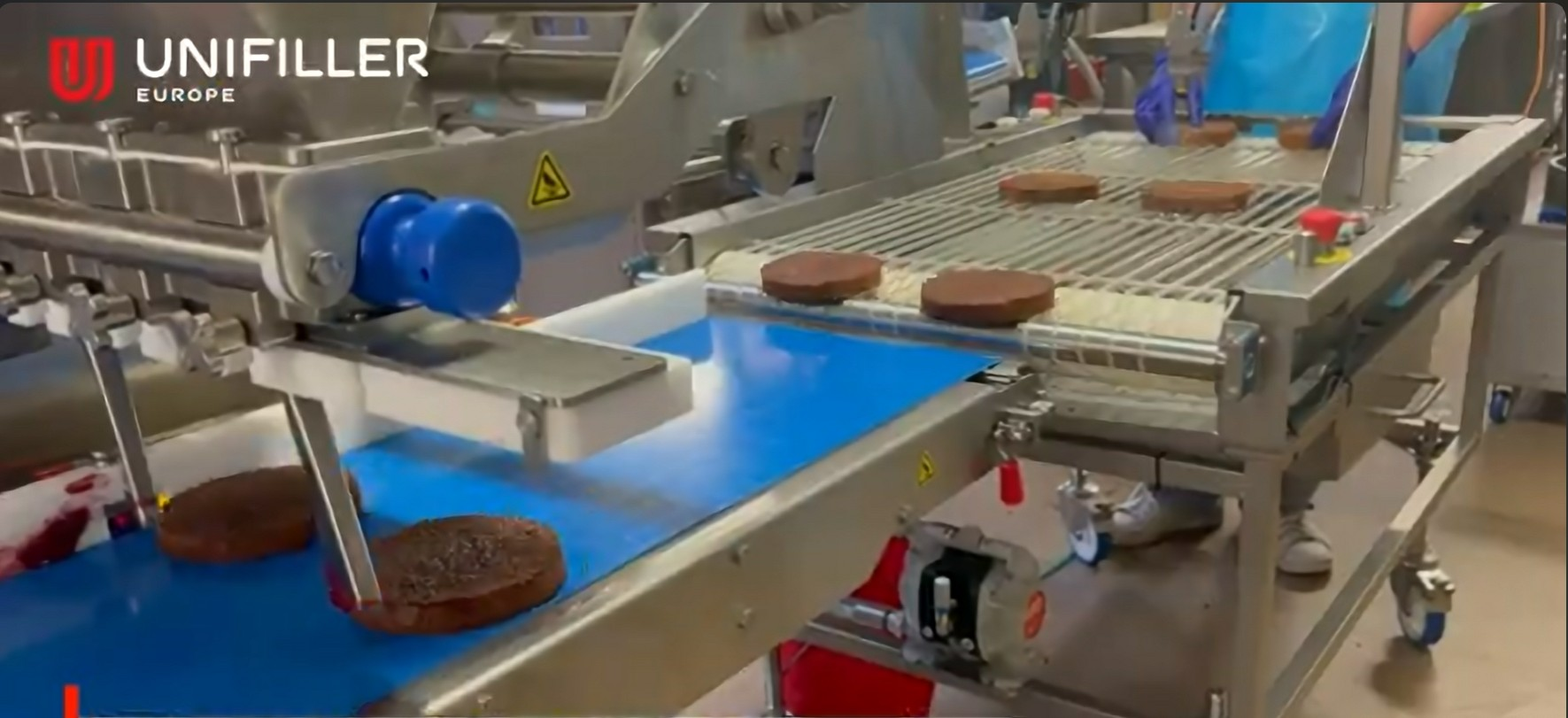Chocolate Cake: (326, 514, 563, 633), (158, 465, 360, 561), (920, 266, 1055, 324), (758, 245, 884, 304), (998, 167, 1101, 204), (1143, 178, 1249, 210), (1172, 118, 1241, 144), (1276, 122, 1322, 148)
